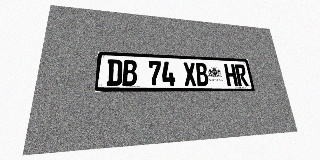4: (161, 61, 176, 86)
7: (148, 61, 162, 86)
B: (122, 60, 137, 86), (195, 63, 209, 86)
D: (106, 59, 122, 86)
H: (224, 64, 238, 86)
R: (234, 64, 249, 86)
X: (183, 62, 197, 86)
